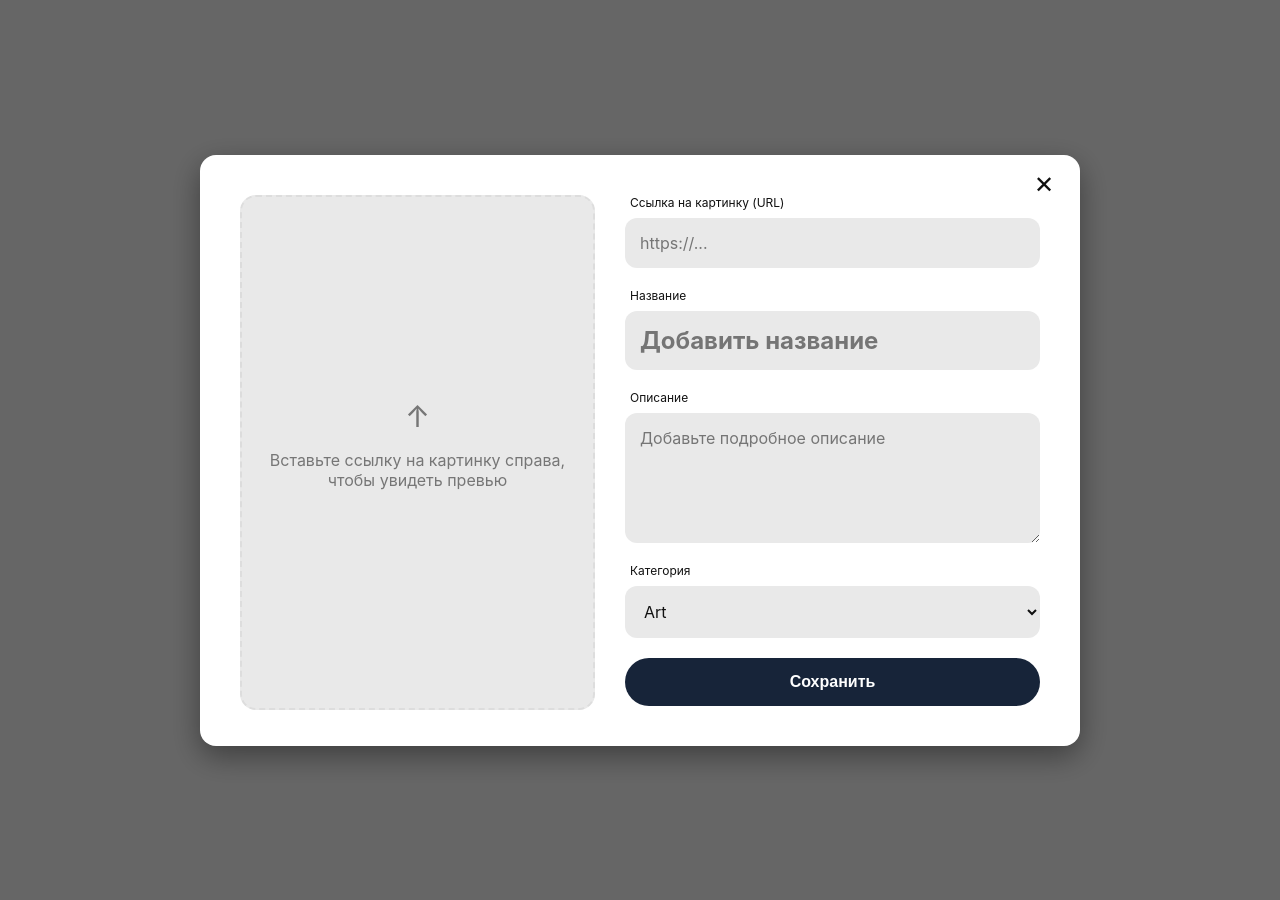
Test: AddPinForm › shows validation error when fields are empty
Click the button "Сохранить" at (832, 682), box [625,658,1040,706]
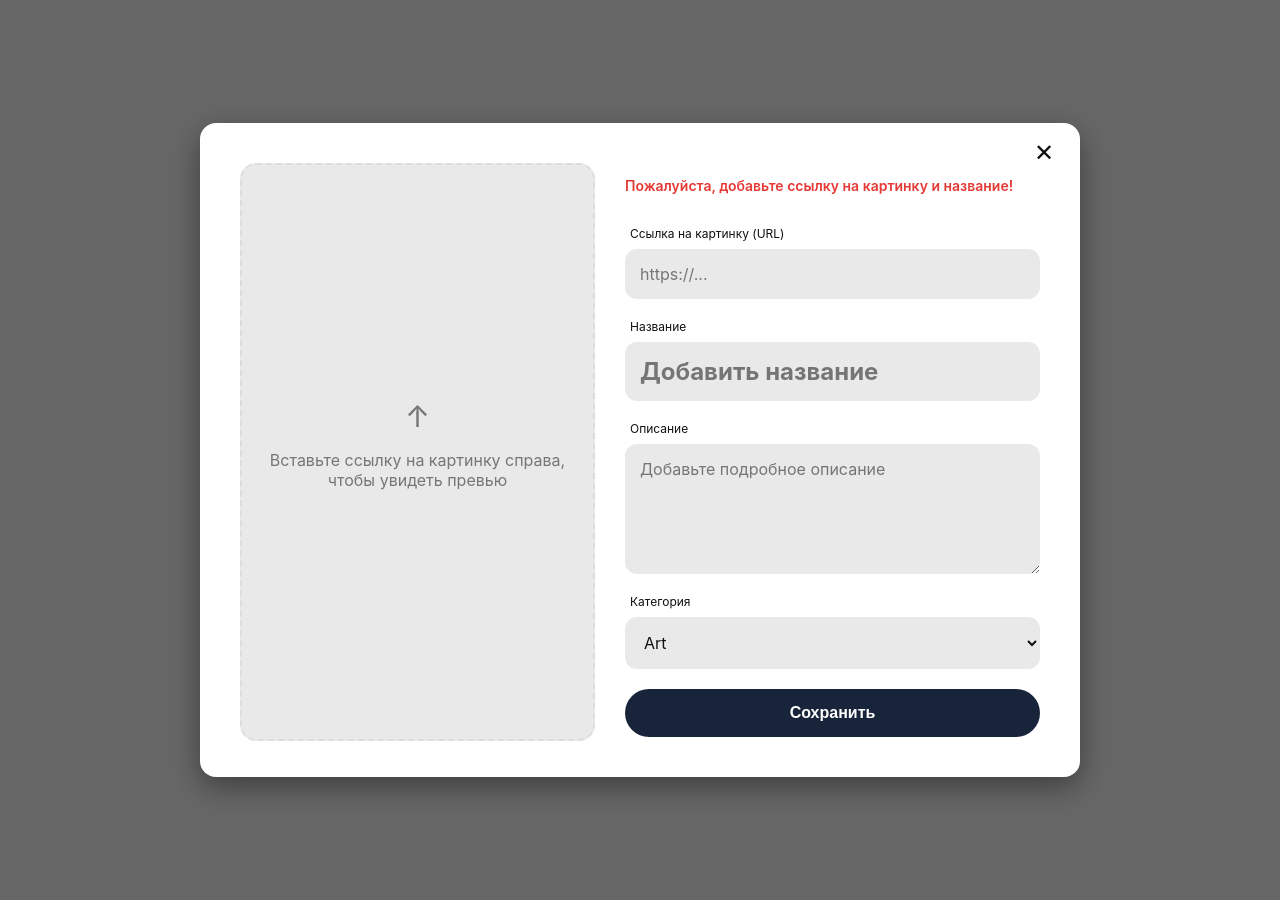
Expected: the text "Пожалуйста, добавьте ссылку на картинку и название!" is shown, [625,177,1040,194]
